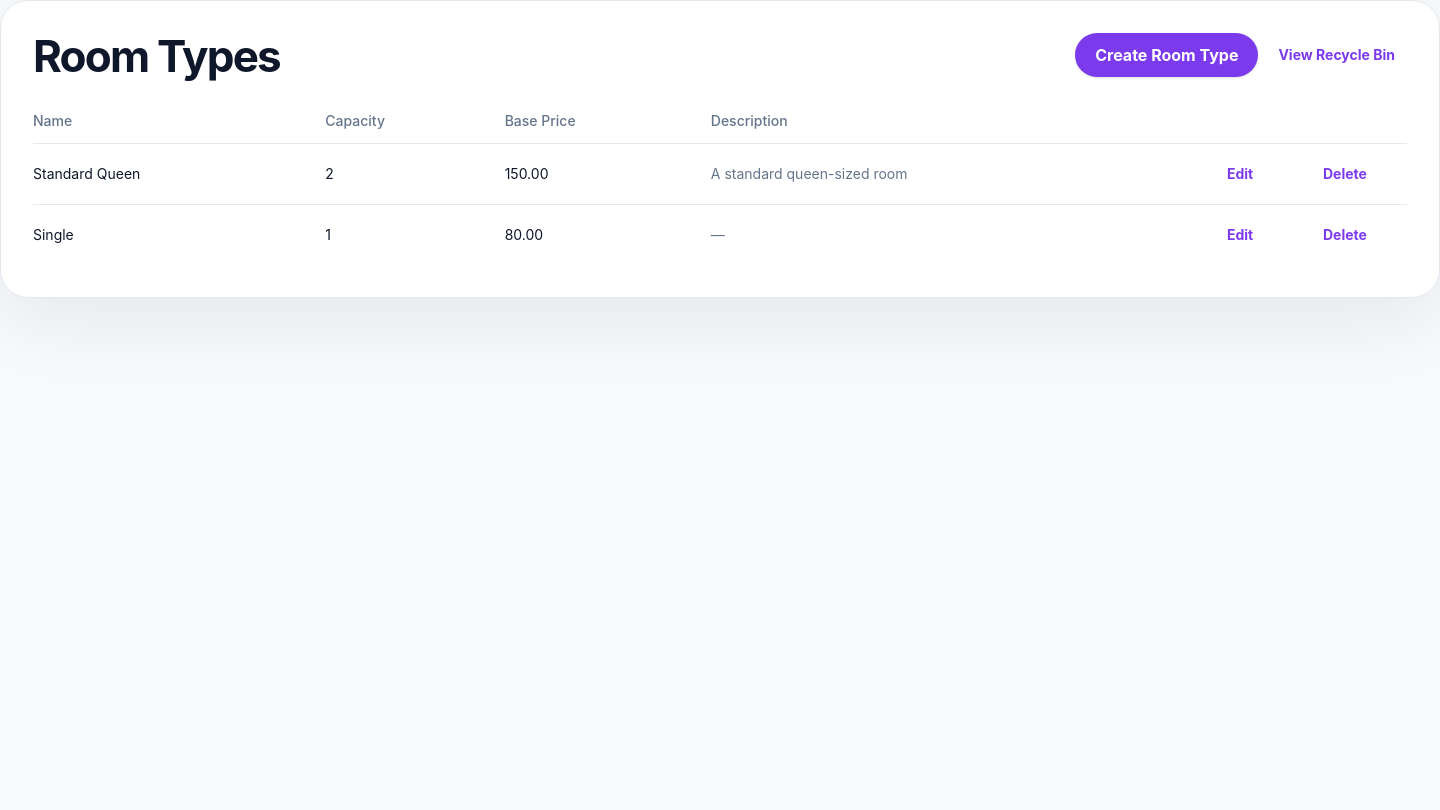
Scenario: RoomTypesPage › modal create flow › opens the create modal when Create Room Type is clicked
This screenshot has width=1440, height=810.
Click the button "Create Room Type" at (1167, 55), box [1075,33,1258,77]
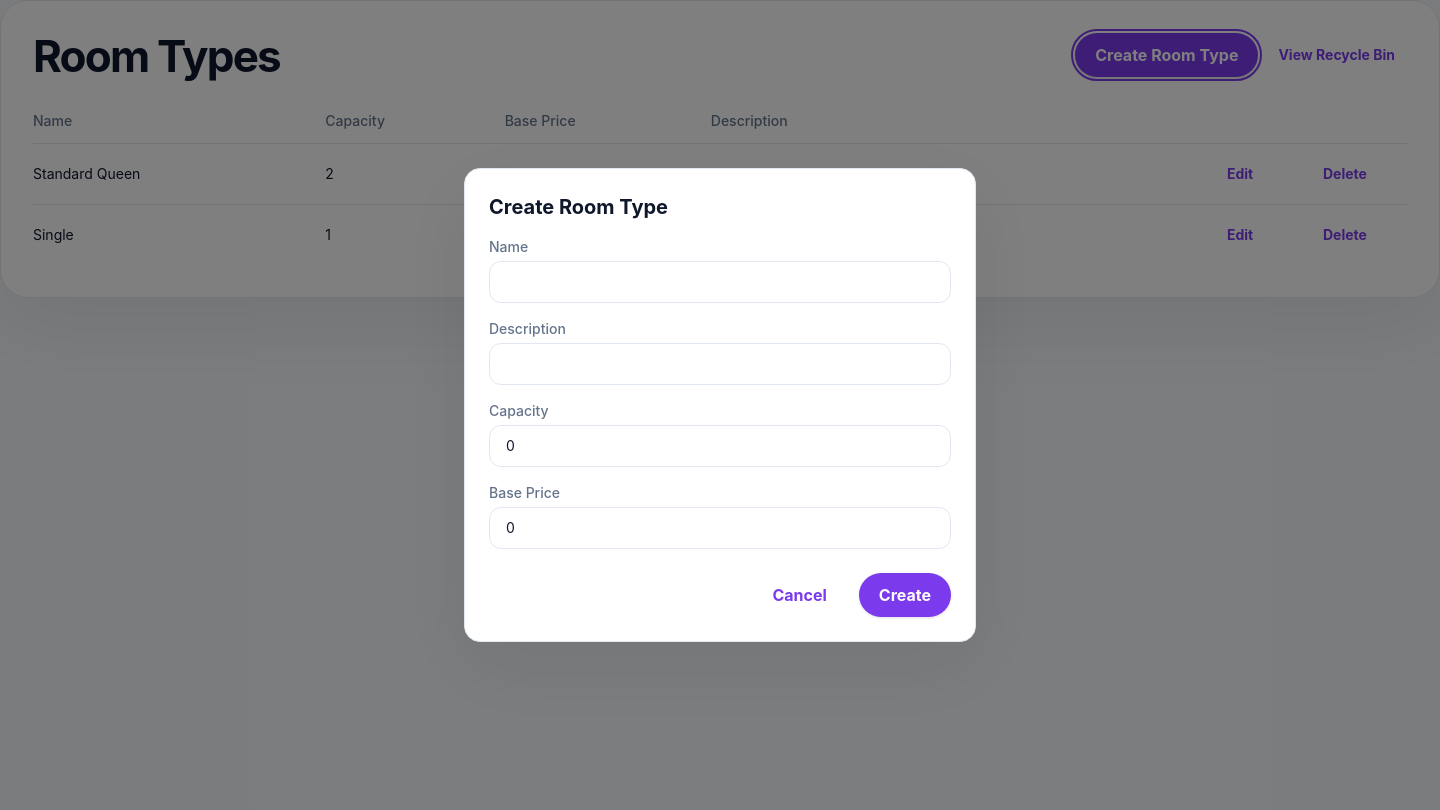
Expected: the dialog is shown, [464,168,976,642]
Expected: the heading "Create Room Type" is shown, [489,195,668,219]
